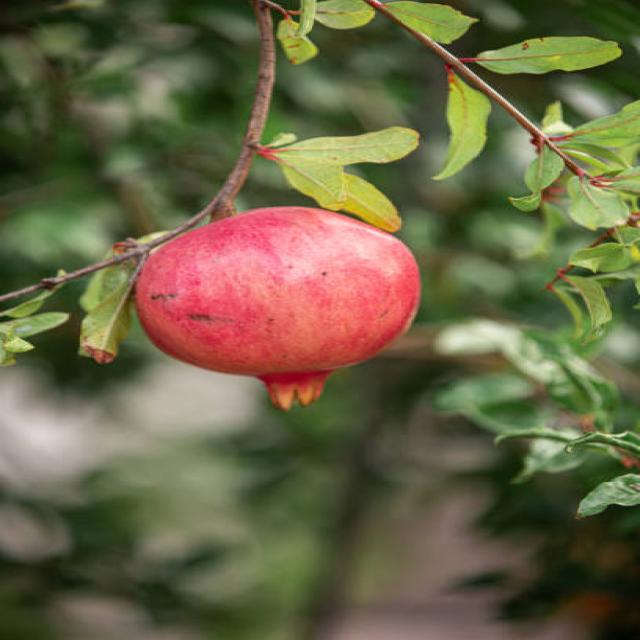Ripe: (118, 204, 424, 416)
